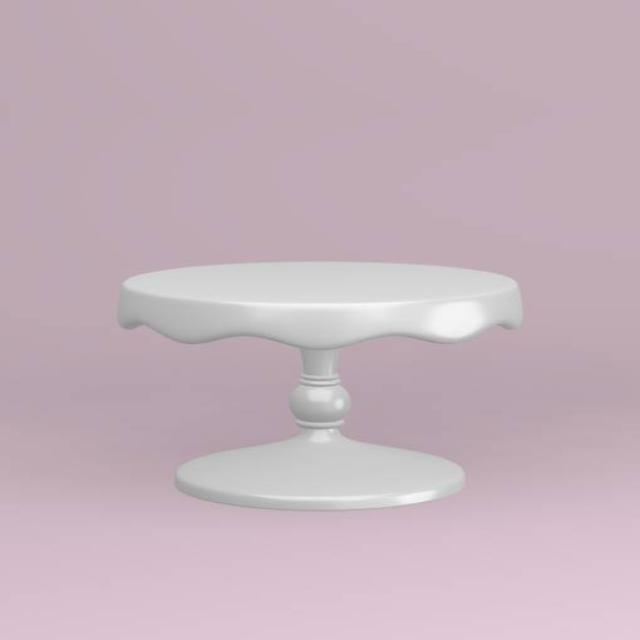table: (116, 258, 522, 512)
